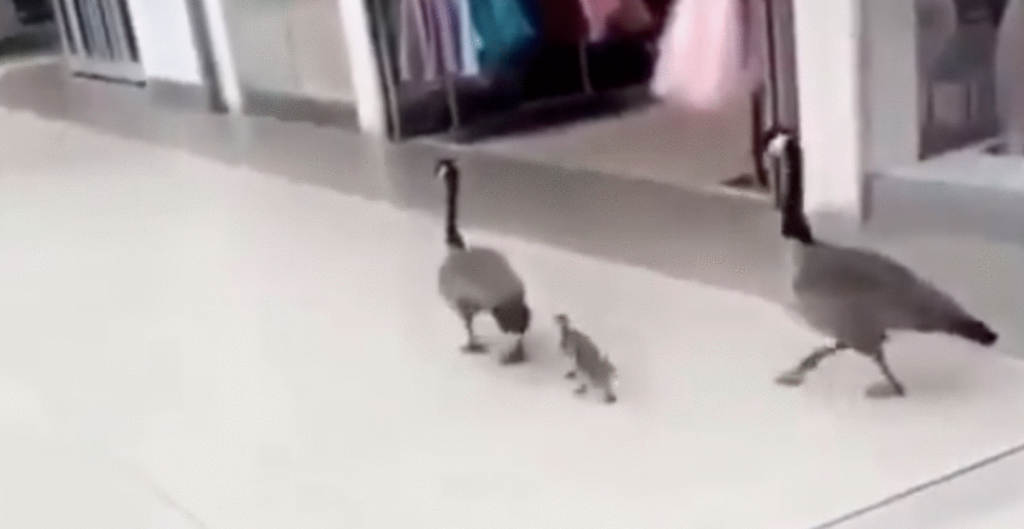goose: (741, 124, 1003, 407), (430, 157, 536, 368)
